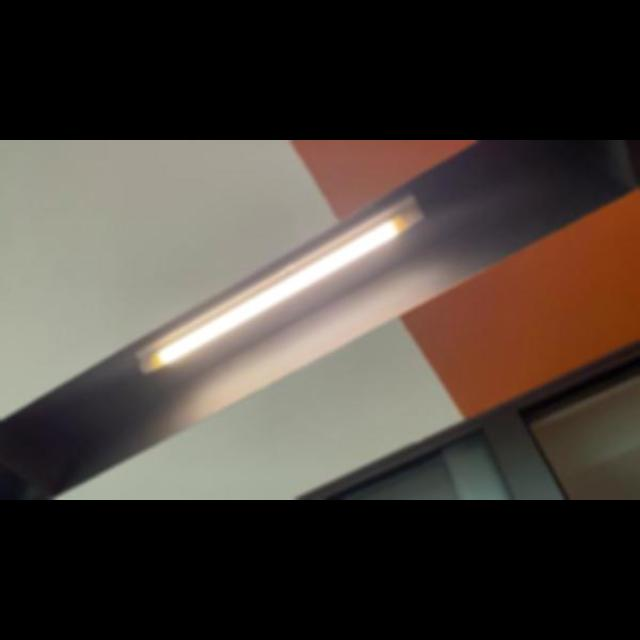Straight-Tube-Fluorescent-Lamp: (126, 186, 440, 384)
